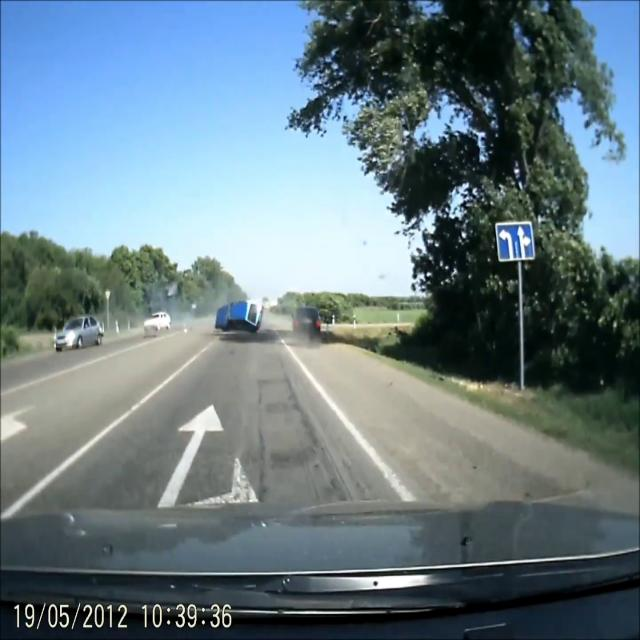accident: (208, 287, 270, 347)
